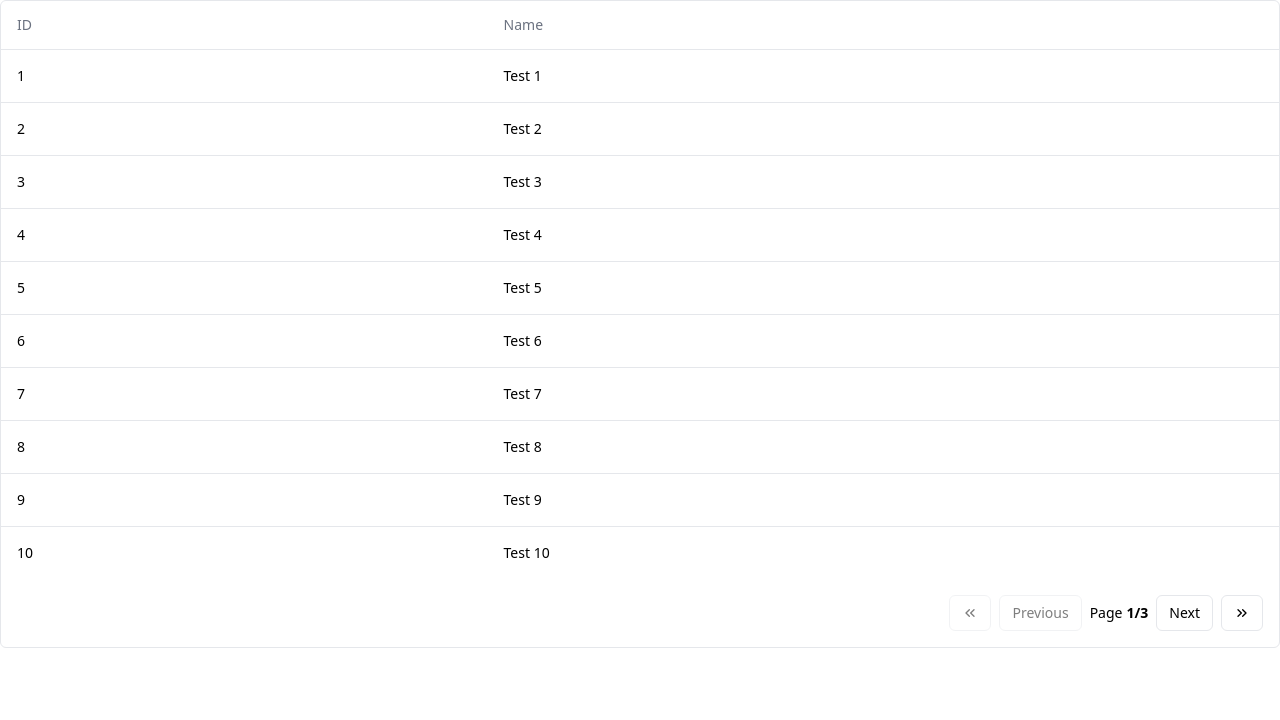
Test: DataTable › jumps to first/last pages correctly
Click the button named "last page".
click(1242, 612)  # box [1221,594,1263,630]
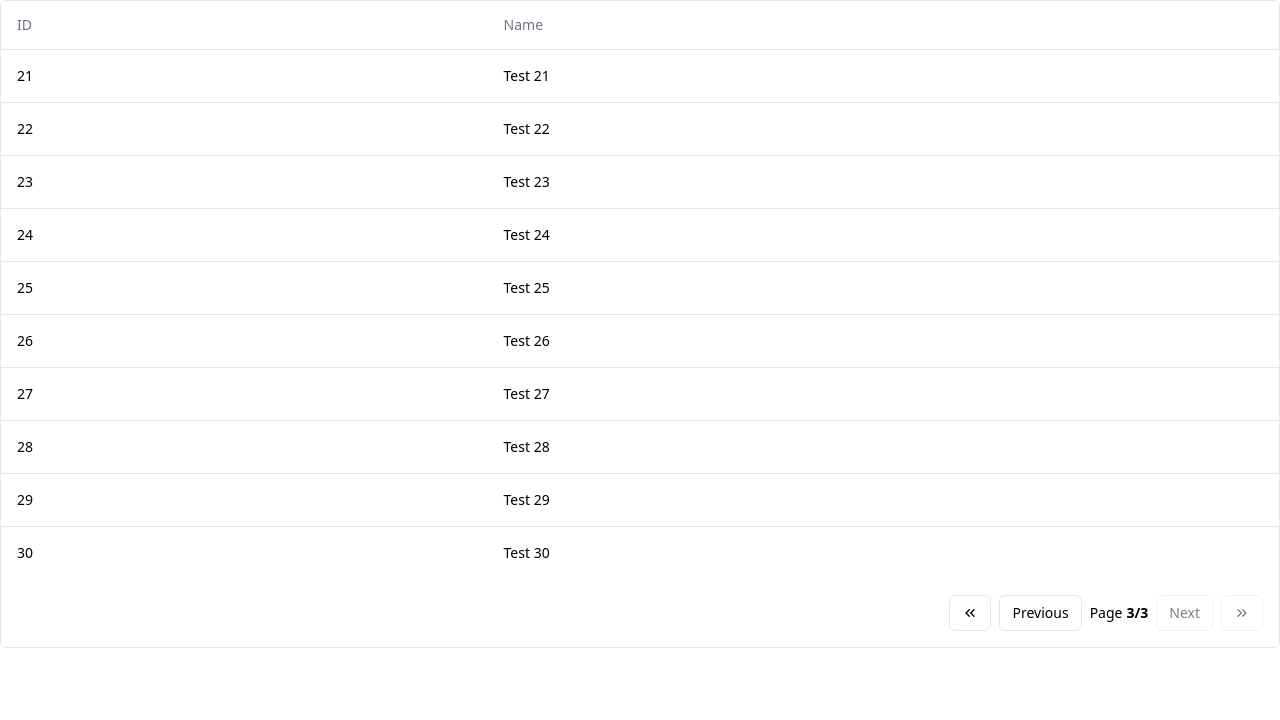
Expected: the text "3/3" is shown, [1126,602,1148,622]
Expected: the text "Test 21" is shown, [488,49,1279,102]
Click the button named "first page".
click(970, 612)  # box [950,594,992,630]
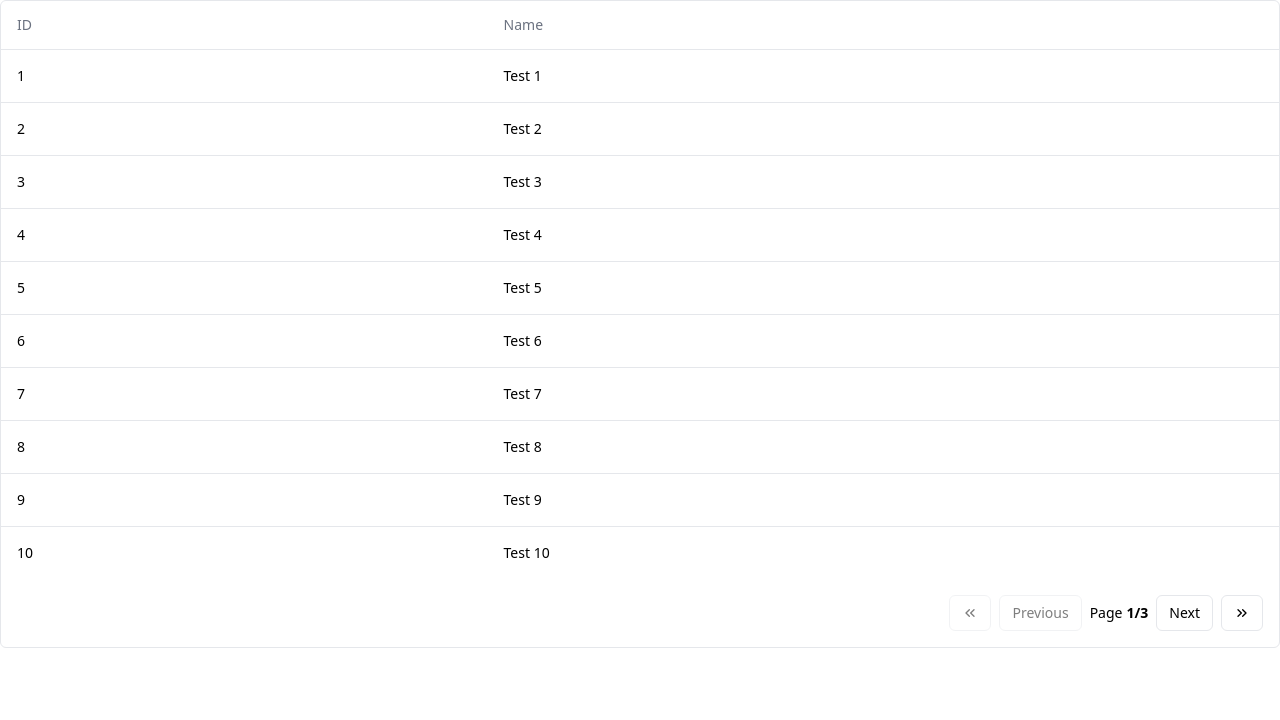
Expected: the text "1/3" is shown, [1126,602,1148,622]
Expected: the text "Test 1" is shown, [488,49,1279,102]
